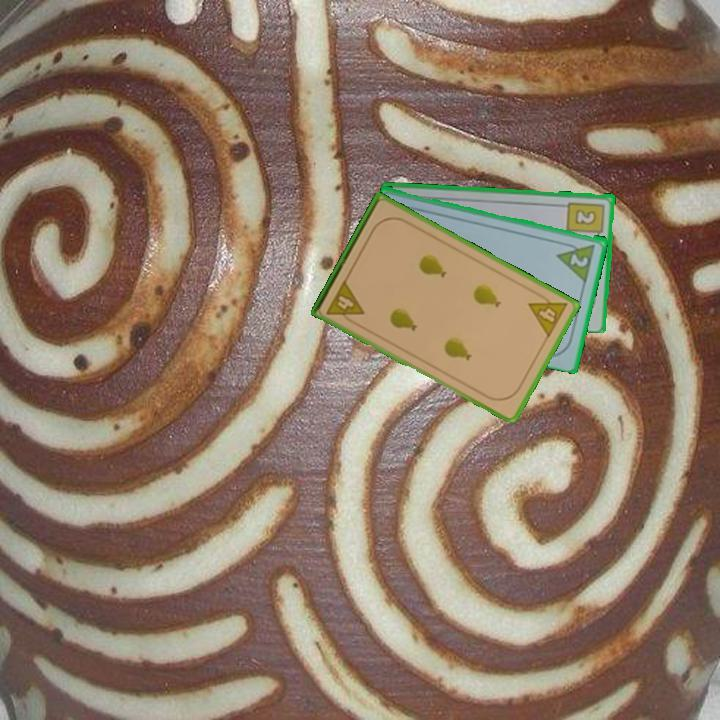2b: (564, 198, 607, 242)
2p: (554, 238, 598, 283)
4p: (525, 288, 571, 341), (323, 276, 367, 328)
